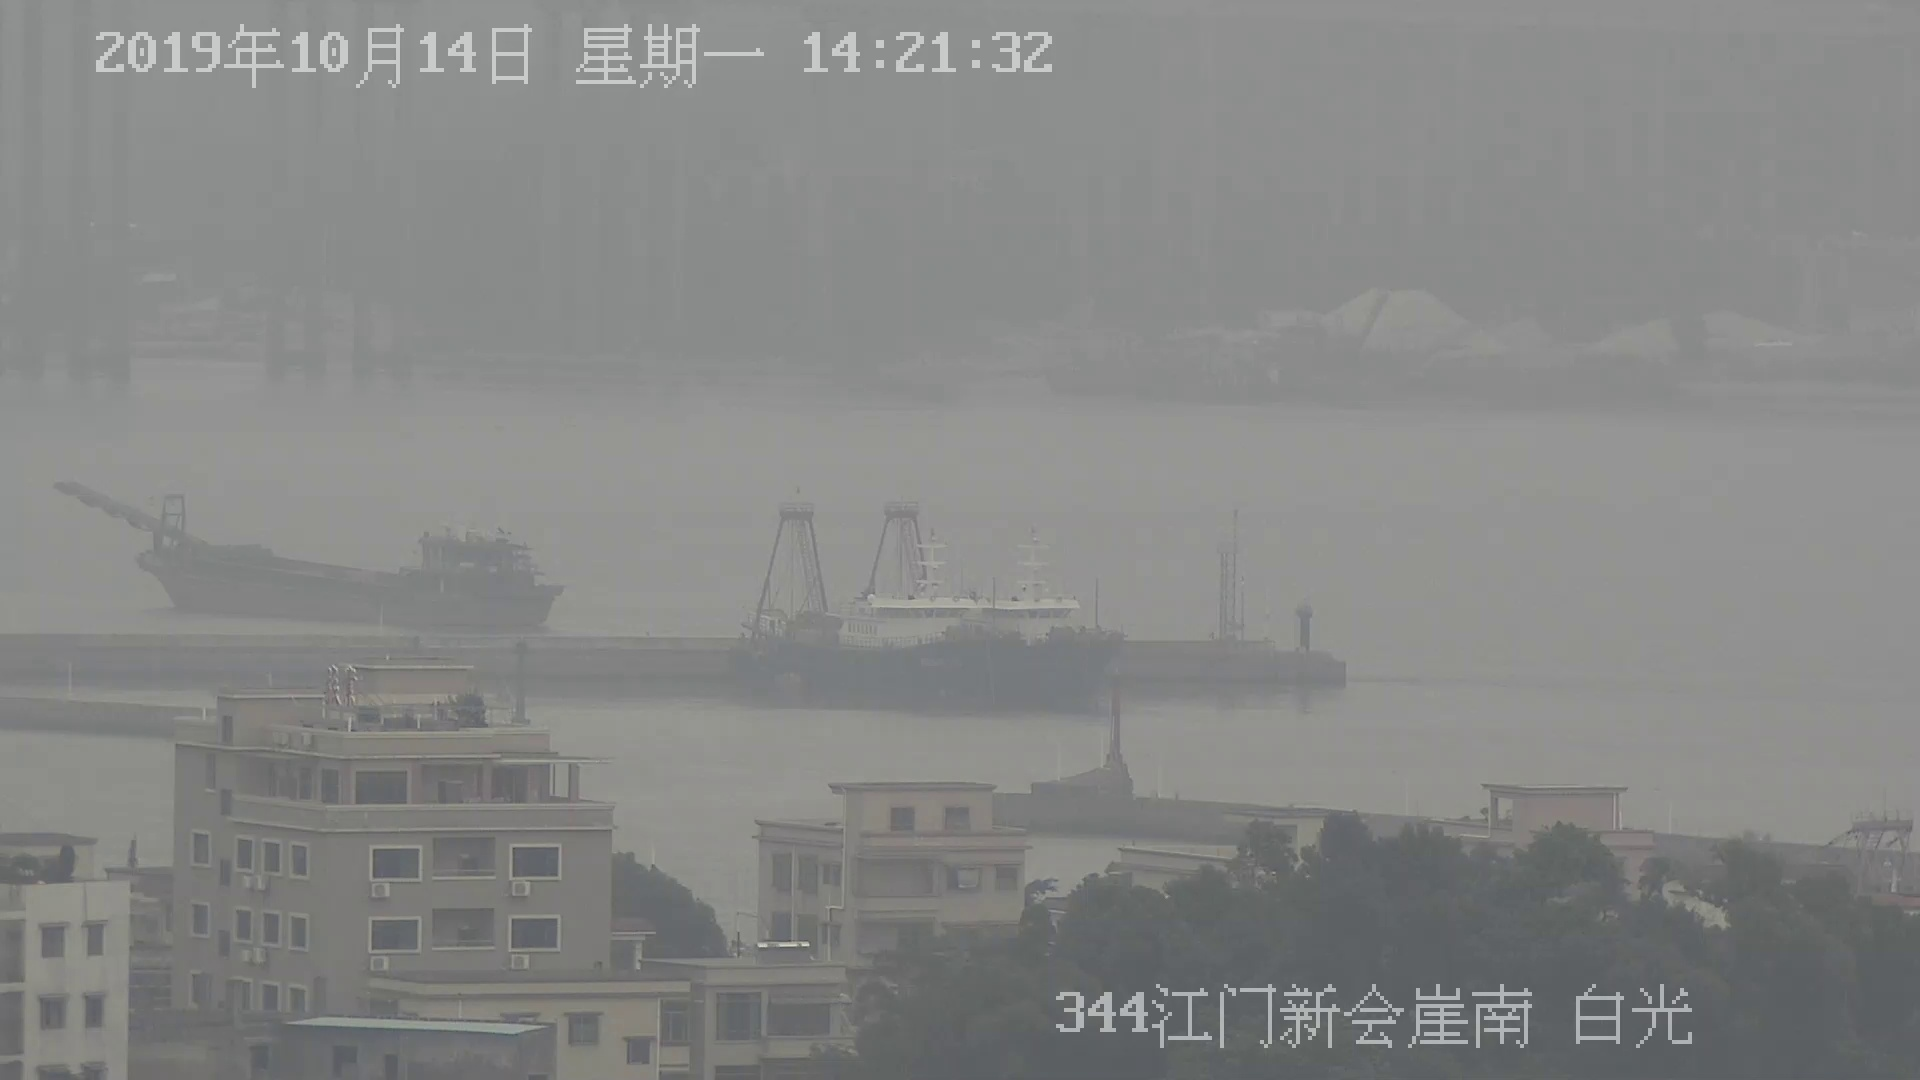ship: (58, 430, 568, 634)
